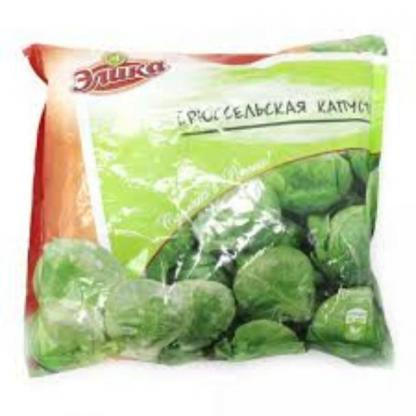brus capusta: (193, 156, 387, 353), (22, 222, 198, 375)
